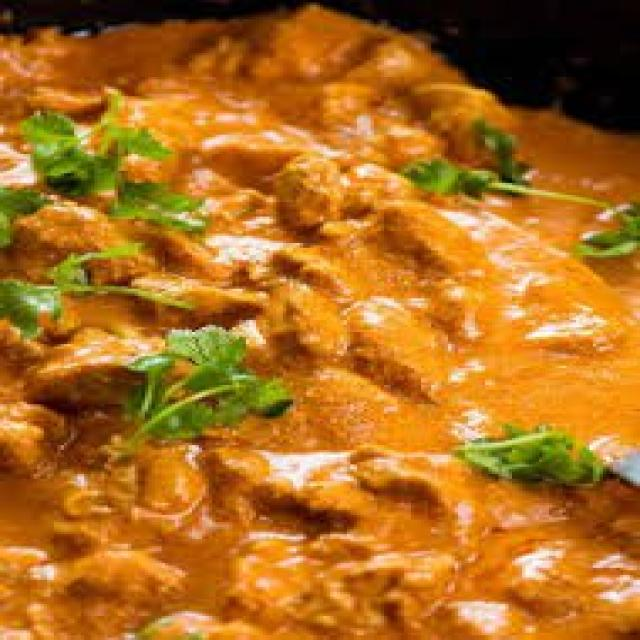Butter Chicken: (3, 19, 640, 638)
